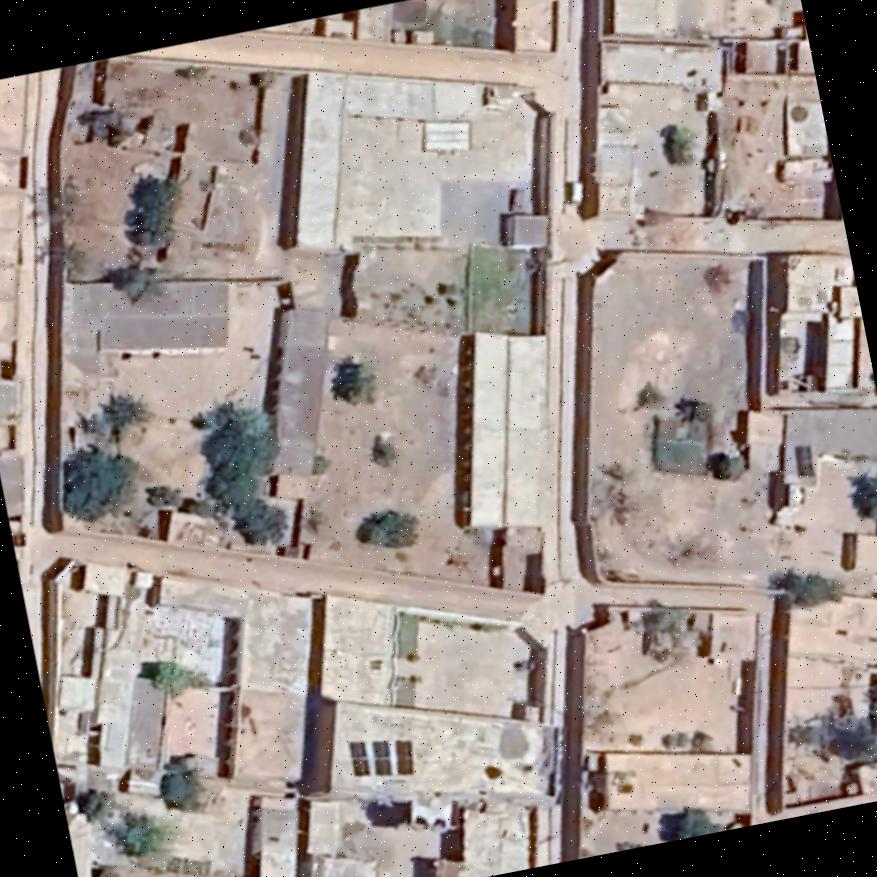Solarpanel: (342, 733, 414, 780)
